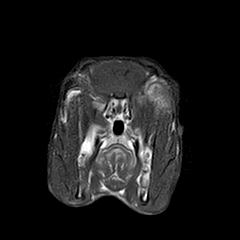Brain: (69, 31, 168, 129)
